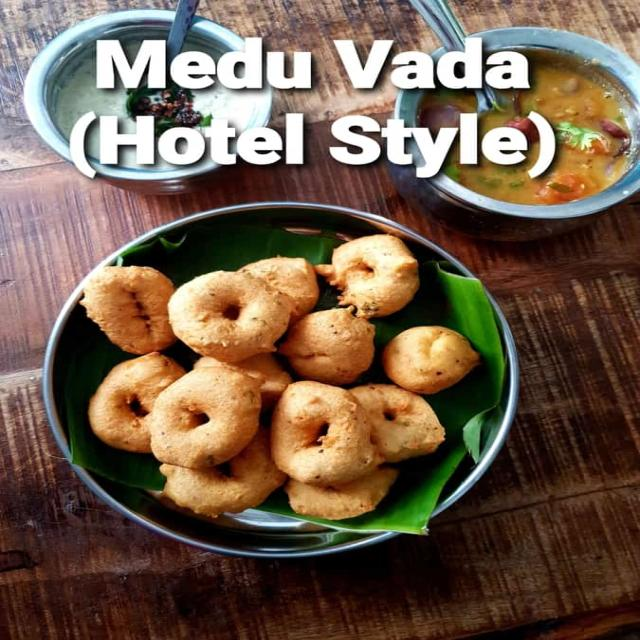MEDU VADA: (139, 361, 264, 470), (167, 269, 294, 361), (268, 384, 364, 484), (85, 266, 180, 353), (169, 434, 271, 512), (100, 349, 183, 439), (323, 237, 412, 312), (350, 390, 435, 461), (280, 313, 362, 378), (385, 326, 470, 386), (295, 475, 393, 518)
